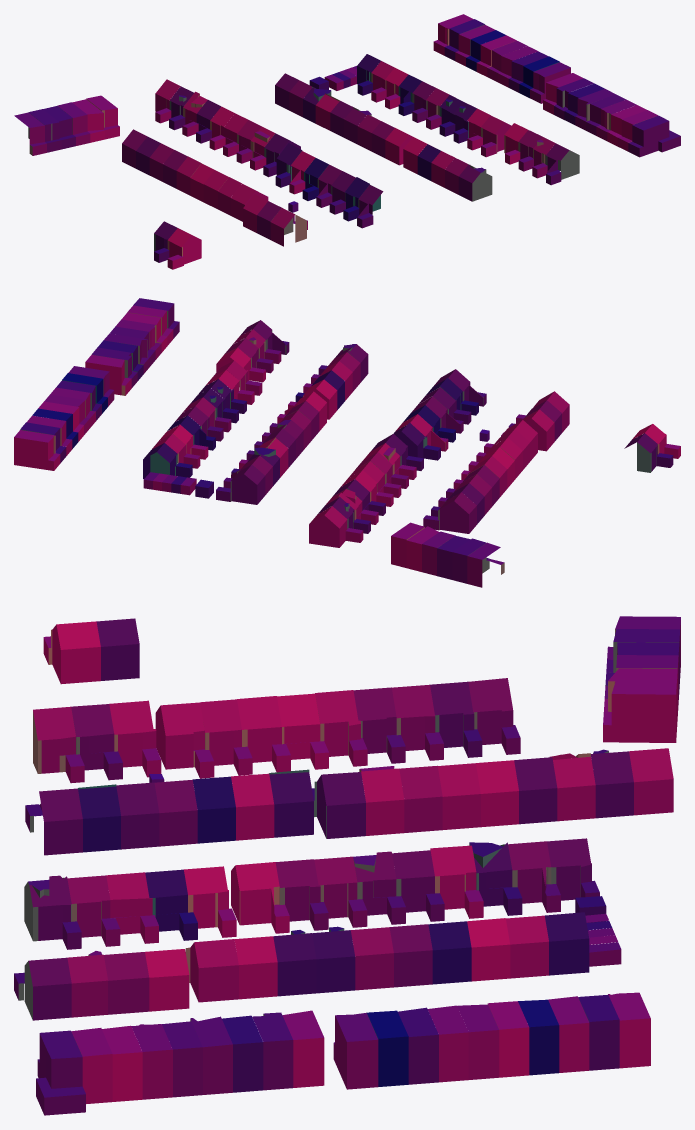
The model's file is buildings_10_4.glb.
3 renders of one model, top to bottom at view 1: azimuth 30°, elevation 25°; view 2: azimuth 150°, elevation 25°; view 3: azimuth 270°, elevation 25°, orthographic. The views are drawn at different scales.
Visible parts, largest first — view 1: buildings_10_4; view 2: buildings_10_4; view 3: buildings_10_4.
Boxes of the visible parts, x1,y1,x2,y2 form: buildings_10_4: (14,14,680,269); buildings_10_4: (14,298,680,587); buildings_10_4: (14,616,680,1115).
Bounding box in the file's own units: 176 × 9.6 × 106.
